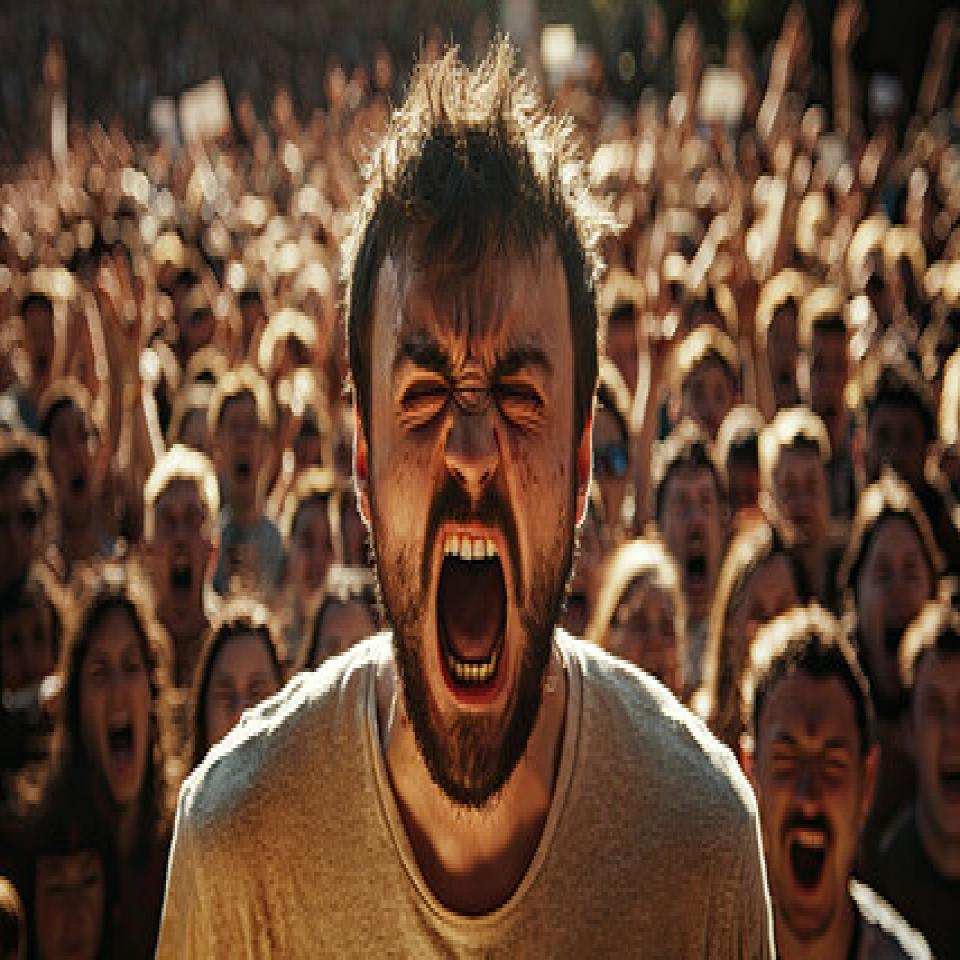Anger: (369, 231, 574, 802), (760, 690, 858, 904)
